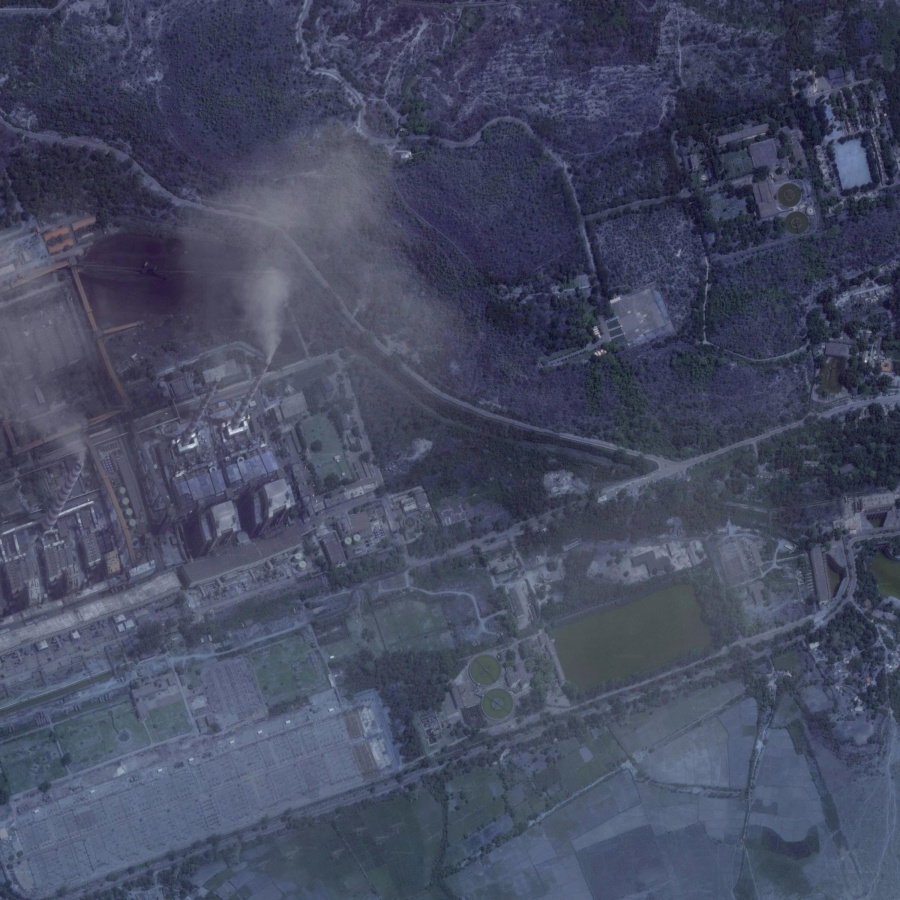PowerPlant: (539, 562, 721, 710)
